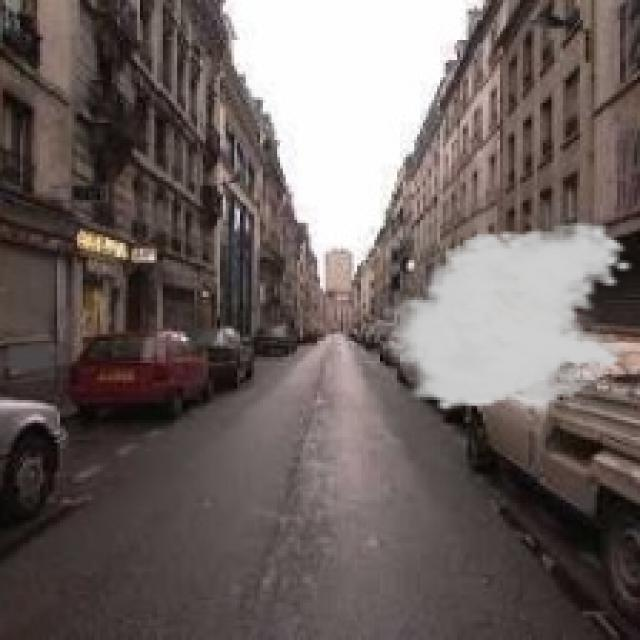smoke: (374, 220, 634, 423)
